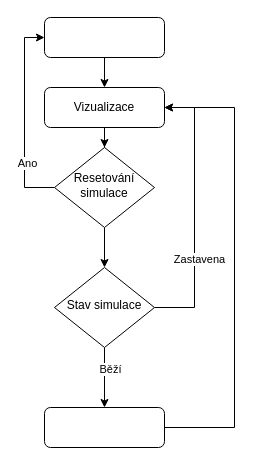
This 260x465 diagram has some shape labels left out. Each missing label, with the centre of its shape:
"Inicializace SPH" goes at point (104, 37).
"Simulace" goes at point (104, 427).
